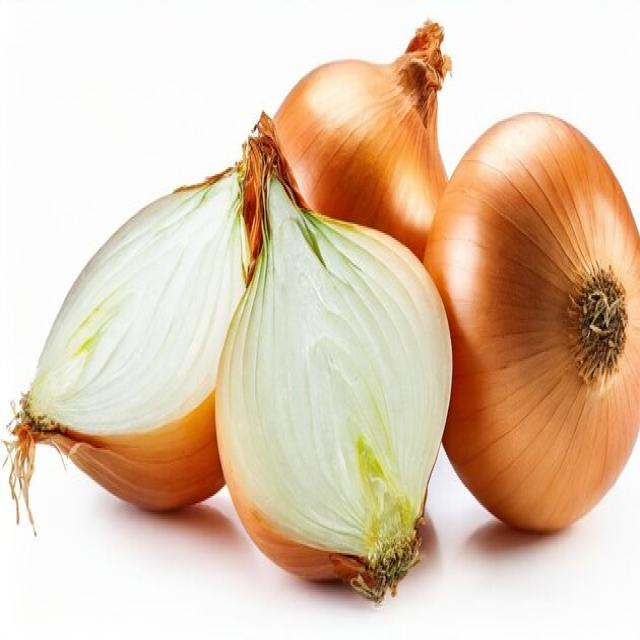Cabbage: (1, 135, 256, 535)
Onion: (213, 108, 453, 602), (423, 109, 639, 534), (267, 18, 452, 263)
